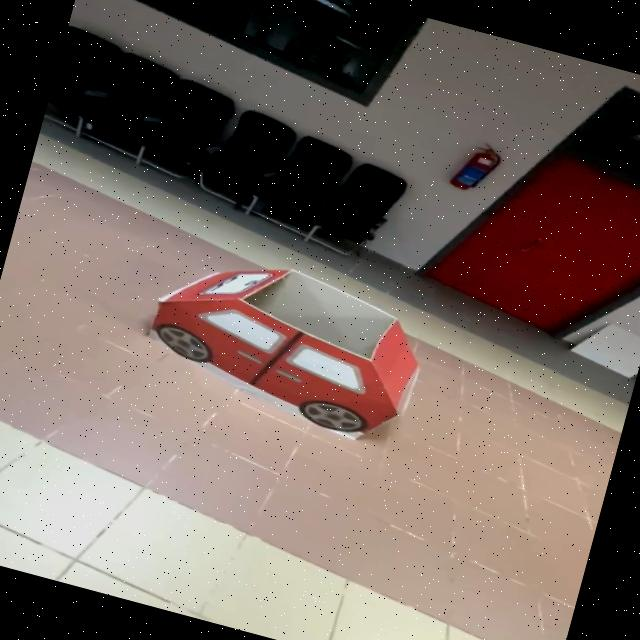red_car: (86, 208, 482, 486)
